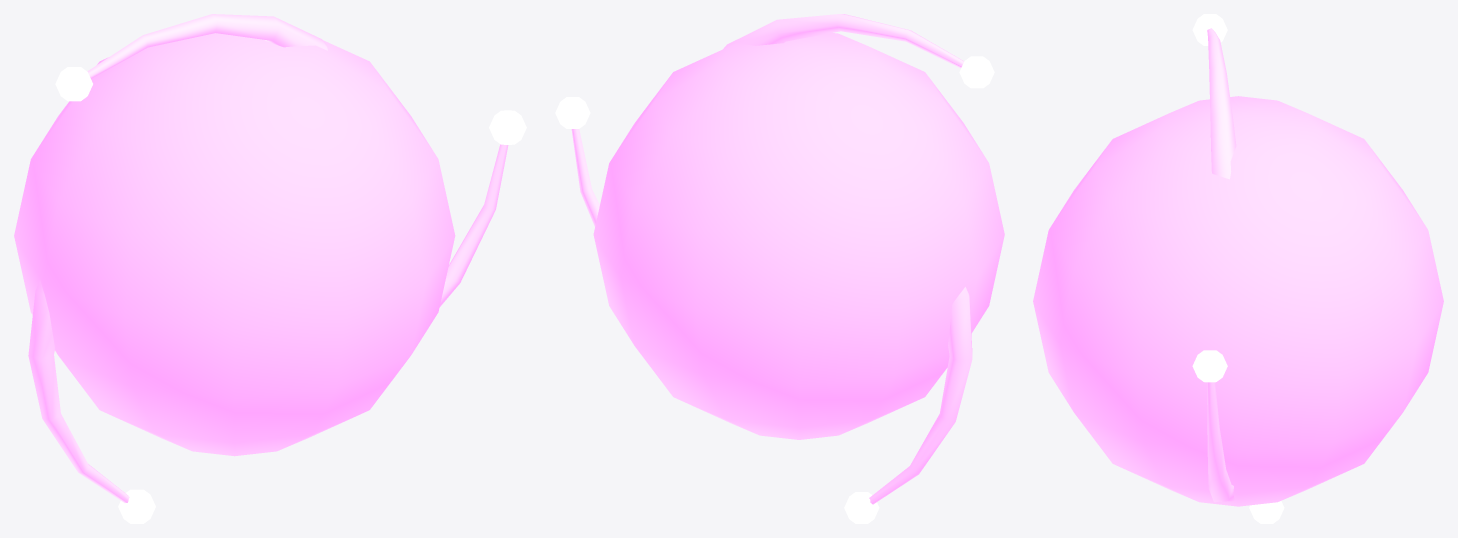
File: plasma_bullet.glb
3 renders of one model, left to right at view 1: azimuth 30°, elevation 25°; view 2: azimuth 150°, elevation 25°; view 3: azimuth 270°, elevation 25°, orthographic. The views are drawn at different scales.
Parts seen in each view (by area): view 1: halo_mesh, mesh_wisps; view 2: halo_mesh, mesh_wisps; view 3: halo_mesh, mesh_wisps.
Boxes of the visible parts, x1=… form: halo_mesh: x1=14, y1=33, x2=455, y2=456; mesh_wisps: x1=28, y1=14, x2=526, y2=523; halo_mesh: x1=593, y1=33, x2=1004, y2=439; mesh_wisps: x1=555, y1=14, x2=994, y2=523; halo_mesh: x1=1033, y1=96, x2=1443, y2=506; mesh_wisps: x1=1192, y1=14, x2=1284, y2=523.
Size of the model in its own units: 0.7106 by 0.7489 by 0.58.
